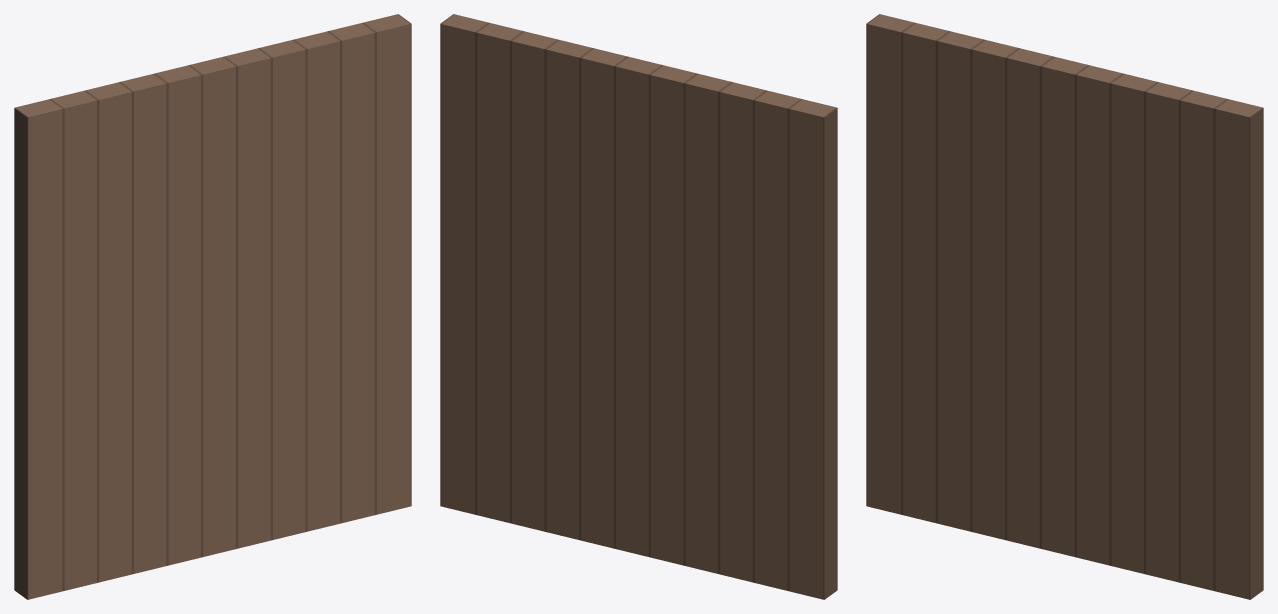
File: Wall1_C9_16.fbx
The picture shows the model from 3 angles, left to right: view 1: azimuth 30°, elevation 25°; view 2: azimuth 150°, elevation 25°; view 3: azimuth 330°, elevation 25°; orthographic projection.
Parts seen in each view (by area): view 1: Wall1_C9_16; view 2: Wall1_C9_16; view 3: Wall1_C9_16.
Boxes of the visible parts, box(x1,y1,x2,y2) form: Wall1_C9_16: box(14, 14, 411, 599); Wall1_C9_16: box(440, 14, 837, 599); Wall1_C9_16: box(866, 14, 1263, 599).
Bounding box in the file's own units: 250 × 300 × 15.
